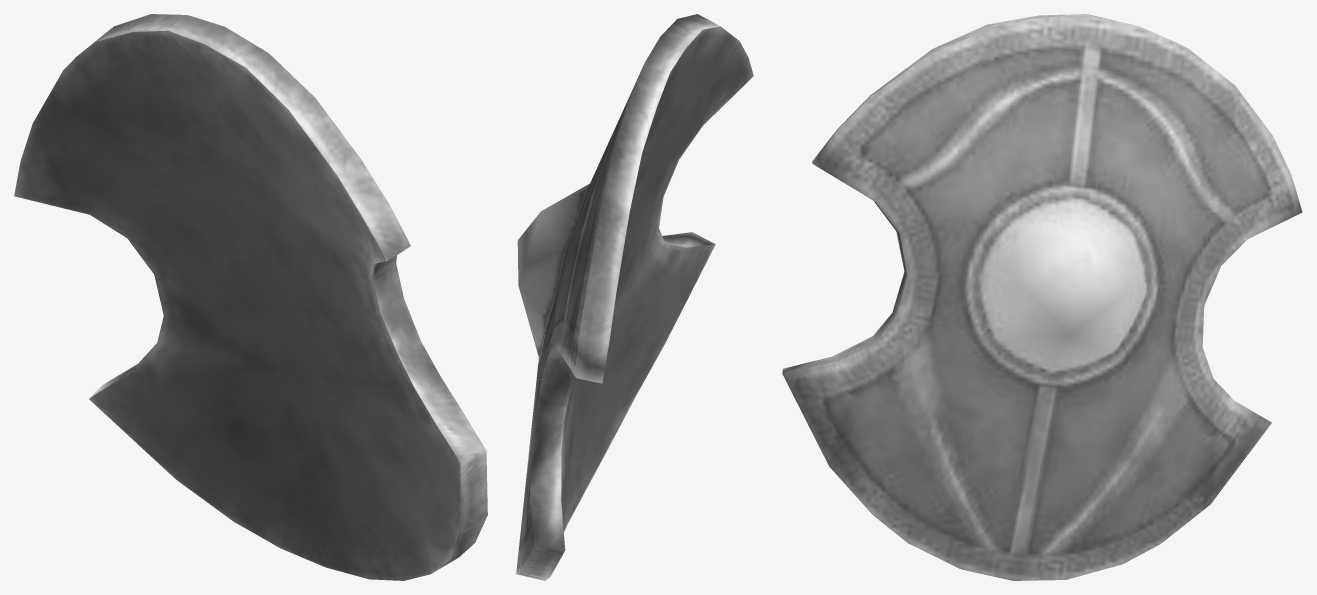
Rendered from shield-ironshields.glb.
The picture shows the model from 3 angles, left to right: view 1: azimuth 30°, elevation 25°; view 2: azimuth 150°, elevation 25°; view 3: azimuth 270°, elevation 25°; orthographic projection. The views are drawn at different scales.
Bounding box in the file's own units: 0.2408 × 0.5669 × 0.5242.
1 material, 1 textured.
